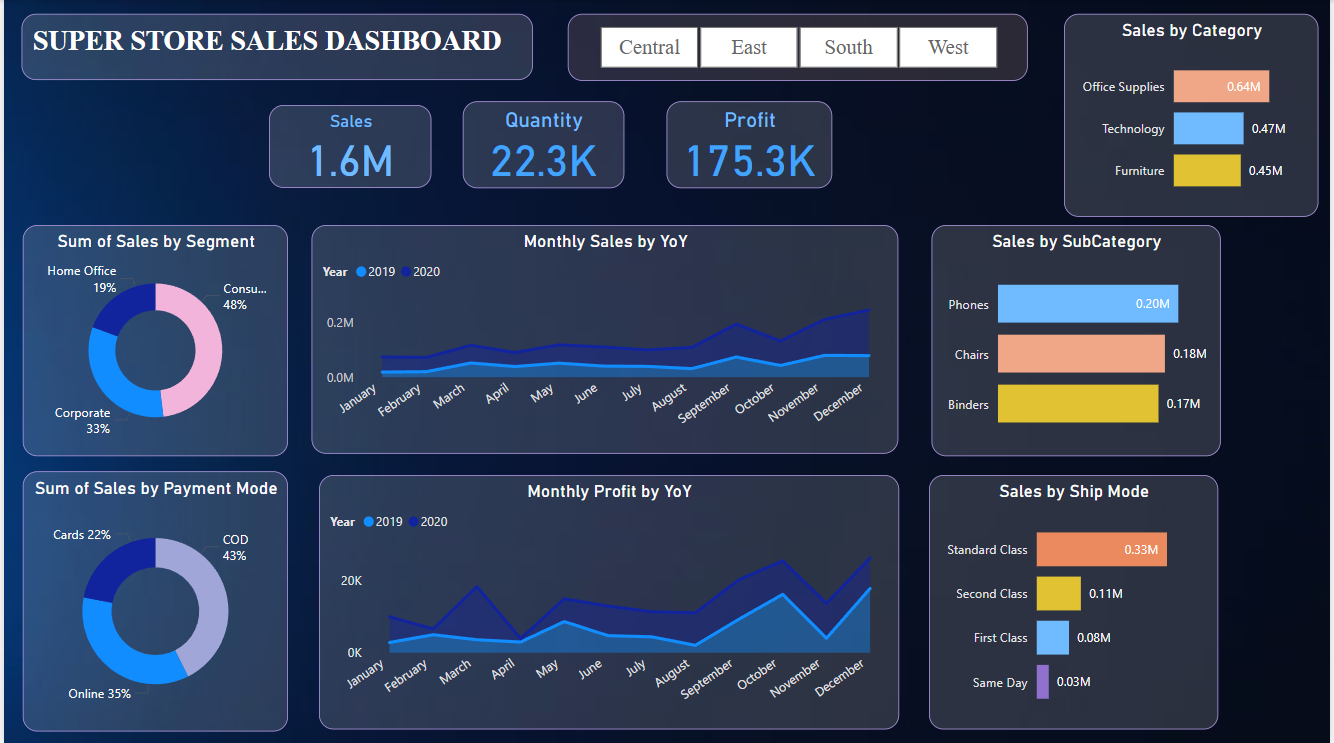

What the dashboard file says about the page in this screenshot:
{"tool":"powerbi","page":{"name":"Page 1","canvas":[1280,720],"ordinal":0},"visuals":[{"type":"clusteredBarChart","title":"Sales by Category","fields":{"Category":["SuperStore_Sales_Dataset.Category"],"Y":["Sum(SuperStore_Sales_Dataset.Sales)"]},"box":[1022.9,12.9,245.7,195.7],"z":0},{"type":"clusteredBarChart","title":"Sales by SubCategory","fields":{"Category":["SuperStore_Sales_Dataset.Sub-Category"],"Y":["Sum(SuperStore_Sales_Dataset.Sales)"]},"box":[894.7,217.5,278.9,222.8],"z":1000},{"type":"clusteredBarChart","title":"Sales by Ship Mode","fields":{"Category":["SuperStore_Sales_Dataset.Ship Mode"],"Y":["Sum(SuperStore_Sales_Dataset.Sales)"]},"box":[893,457.9,278.9,245.6],"z":2000},{"type":"stackedAreaChart","title":"Monthly Profit by YoY","fields":{"Category":["SuperStore_Sales_Dataset.Order Date.Variation.Date Hierarchy.Month","SuperStore_Sales_Dataset.Order Date.Variation.Date Hierarchy.Day"],"Series":["SuperStore_Sales_Dataset.Order Date.Variation.Date Hierarchy.Year"],"Y":["Sum(SuperStore_Sales_Dataset.Profit)"]},"box":[303.5,457.9,559.6,245.6],"z":3000},{"type":"stackedAreaChart","title":"Monthly Sales by YoY","fields":{"Y":["Sum(SuperStore_Sales_Dataset.Sales)"],"Category":["SuperStore_Sales_Dataset.Order Date.Variation.Date Hierarchy.Month","SuperStore_Sales_Dataset.Order Date.Variation.Date Hierarchy.Day"],"Series":["SuperStore_Sales_Dataset.Order Date.Variation.Date Hierarchy.Year"]},"box":[296.5,217.5,566.7,221.1],"z":4000},{"type":"donutChart","fields":{"Category":["SuperStore_Sales_Dataset.Segment"],"Y":["Sum(SuperStore_Sales_Dataset.Sales)"]},"box":[17.5,217.5,256.1,222.8],"z":5000},{"type":"donutChart","fields":{"Category":["SuperStore_Sales_Dataset.Payment Mode"],"Y":["Sum(SuperStore_Sales_Dataset.Sales)"]},"box":[17.5,454.4,256.1,250.9],"z":6000},{"type":"slicer","fields":{"Values":["SuperStore_Sales_Dataset.Region"]},"box":[544.1,13.3,444,65.1],"z":7000},{"type":"card","title":"Sales","fields":{"Values":["Sum(SuperStore_Sales_Dataset.Sales)"]},"box":[255.7,101.4,157.1,80],"z":8000},{"type":"card","title":"Quantity","fields":{"Values":["Sum(SuperStore_Sales_Dataset.Quantity)"]},"box":[442.9,97.1,155.7,84.3],"z":9000},{"type":"card","title":"Profit","fields":{"Values":["Sum(SuperStore_Sales_Dataset.Profit)"]},"box":[640,97.1,160,84.3],"z":10000},{"type":"textbox","box":[16.9,13.3,493.4,63.9],"z":11000}]}

Visuals, with their boxes in screenshot pixels (x1, y1, x2, y2), scaled from the page's 1280x720 canvas onto the 1334x743 screenshot:
"Sales by Category" clusteredBarChart: [1066,13,1322,215]
"Sales by SubCategory" clusteredBarChart: [932,224,1223,454]
"Sales by Ship Mode" clusteredBarChart: [931,473,1221,726]
"Monthly Profit by YoY" stackedAreaChart: [316,473,900,726]
"Monthly Sales by YoY" stackedAreaChart: [309,224,900,453]
donutChart - SuperStore_Sales_Dataset.Segment x Sum(SuperStore_Sales_Dataset.Sales): [18,224,285,454]
donutChart - SuperStore_Sales_Dataset.Payment Mode x Sum(SuperStore_Sales_Dataset.Sales): [18,469,285,728]
slicer - SuperStore_Sales_Dataset.Region: [567,14,1030,81]
"Sales" card: [266,105,430,187]
"Quantity" card: [462,100,624,187]
"Profit" card: [667,100,834,187]
textbox: [18,14,532,80]
